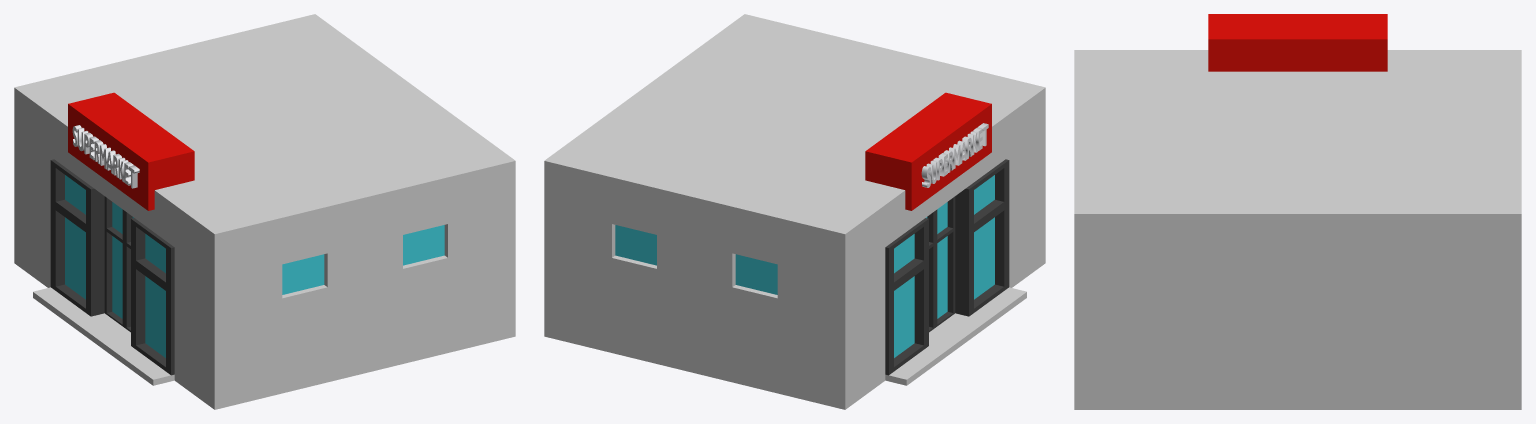
File: Market.fbx
The picture shows the model from 3 angles, left to right: view 1: azimuth 30°, elevation 25°; view 2: azimuth 150°, elevation 25°; view 3: azimuth 270°, elevation 25°; orthographic projection. The views are drawn at different scales.
Visible parts, largest first — view 1: Cube; view 2: Cube; view 3: Cube.
Part boxes in pixels (x1,y1,x2,y2): Cube: (14, 14, 515, 409); Cube: (544, 14, 1045, 409); Cube: (1074, 14, 1521, 409).
Size of the model in its own units: 2785 by 1691 by 3000.
